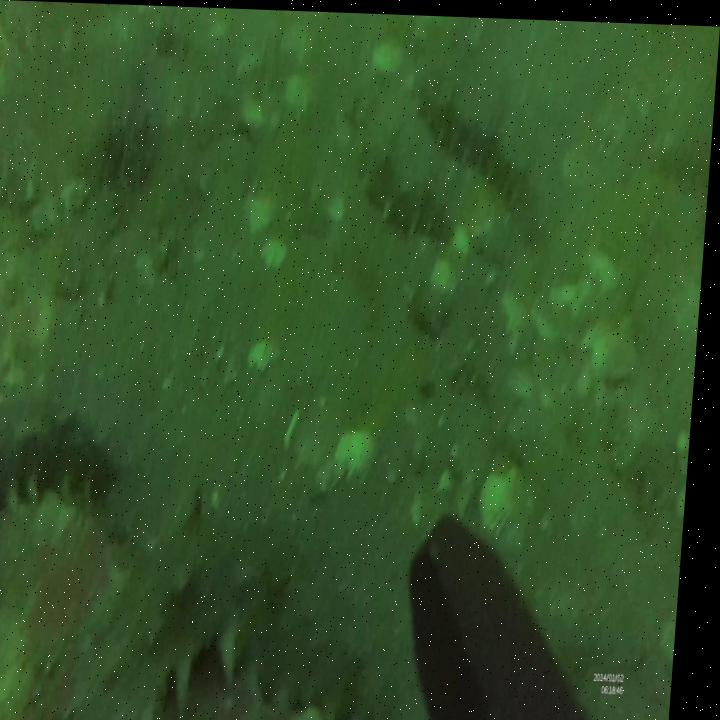holothurian: (78, 478, 386, 720), (0, 413, 128, 653), (415, 79, 550, 208), (360, 127, 463, 243)
scallop: (485, 453, 547, 548)
